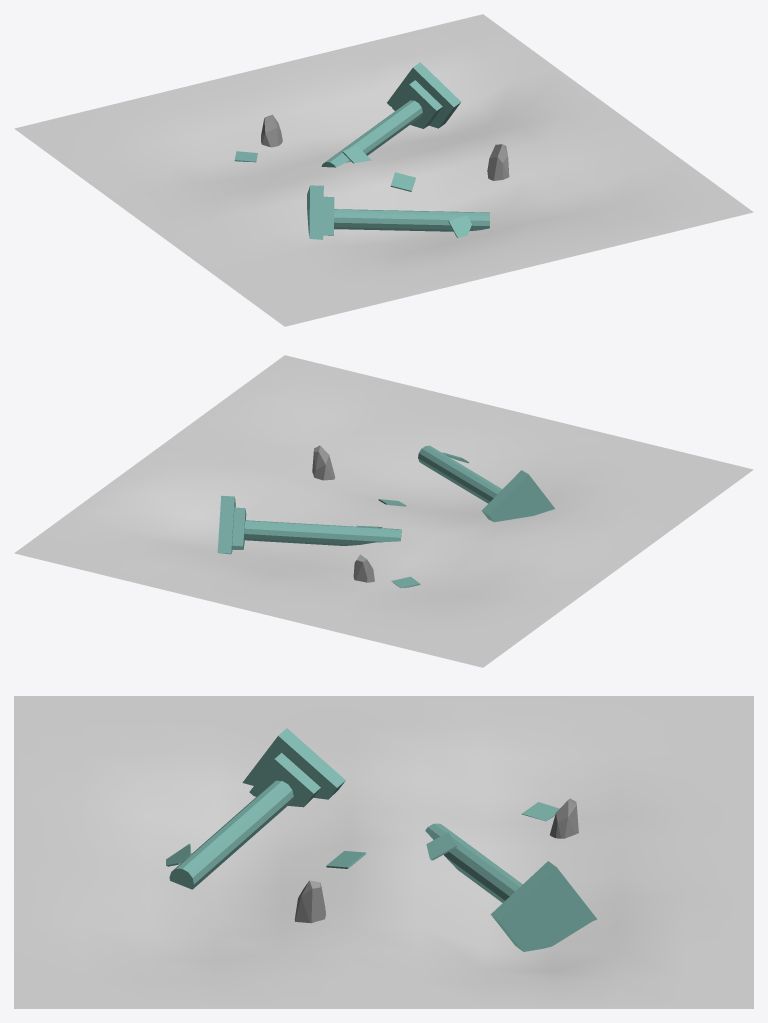
File: tile2.fbx
The picture shows the model from 3 angles, top to bottom: view 1: azimuth 30°, elevation 25°; view 2: azimuth 150°, elevation 25°; view 3: azimuth 270°, elevation 25°; orthographic projection. The views are drawn at different scales.
Parts seen in each view (by area): view 1: Tile2; view 2: Tile2; view 3: Tile2.
Boxes of the visible parts, box(x1,y1,x2,y2) form: Tile2: box(14, 14, 753, 326); Tile2: box(14, 355, 753, 667); Tile2: box(14, 696, 753, 1008).
Bounding box in the file's own units: 5000 × 748 × 5000.
